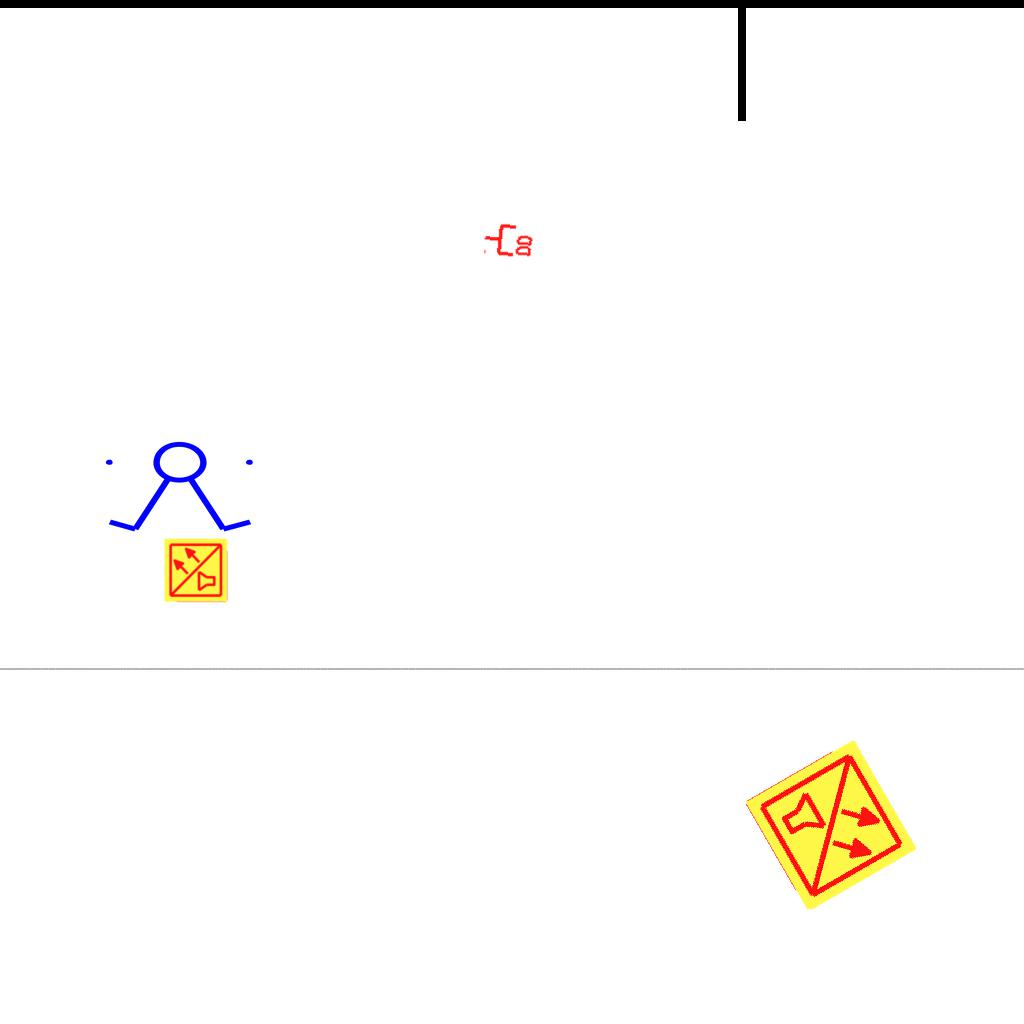Datenanschluss_zweifach: (481, 219, 537, 260)
OKW_Multisensormelder_(Kombination_optischer_Rauch-Kahlenmonoxid_Waerme-Melder): (740, 735, 922, 917), (163, 537, 229, 603)
Serienschalter: (97, 440, 265, 536)
